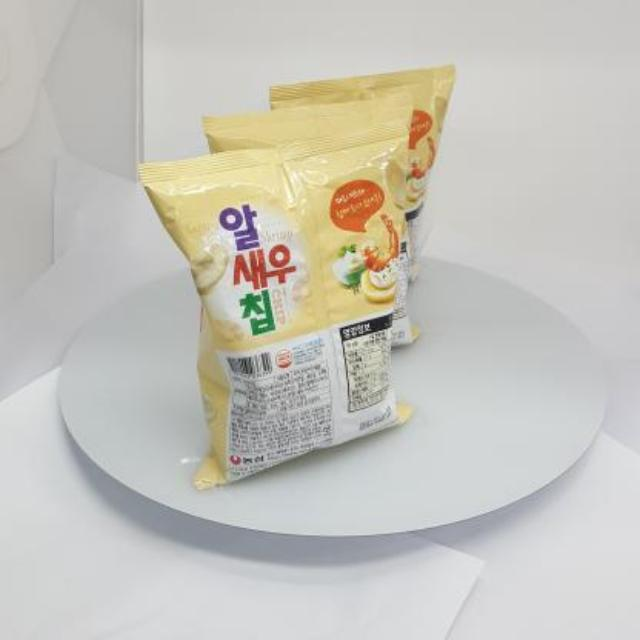snack_bag: (130, 55, 474, 498)
